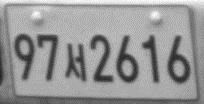1: (140, 32, 159, 84)
2: (89, 33, 114, 82)
6: (166, 34, 190, 83), (115, 34, 139, 82)
7: (36, 33, 58, 81)
9: (13, 33, 34, 80)
서: (64, 41, 86, 82)
